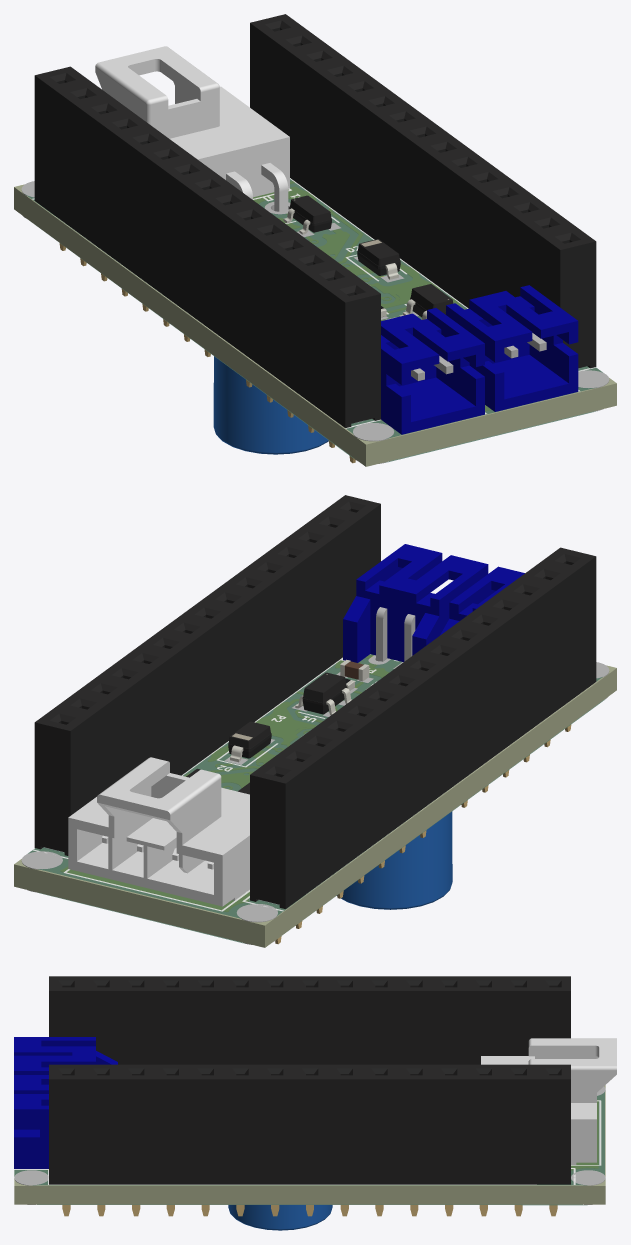
File: drumlight.glb
3 renders of one model, top to bottom at view 1: azimuth 30°, elevation 25°; view 2: azimuth 150°, elevation 25°; view 3: azimuth 270°, elevation 25°, orthographic. The views are drawn at different scales.
Parts seen in each view (by area): view 1: =>[0:1:1:3] (×2), =>[0:1:1:22] (×2), =>[0:1:1:38], =>0:1:1:19, =>[0:1:1:26], =>[0:1:1:36], =>[0:1:1:31], =>[0:1:1:32], =>[0:1:1:13], =>[0:1:1:24], =>[0:1:1:5], =>[0:1:1:34] (+1 smaller); view 2: =>[0:1:1:3] (×2), =>0:1:1:19, =>[0:1:1:38], =>[0:1:1:22] (×2), =>[0:1:1:36], =>[0:1:1:26], =>[0:1:1:31], =>[0:1:1:32], =>[0:1:1:5], =>[0:1:1:13], =>[0:1:1:34]; view 3: =>[0:1:1:3] (×2), =>[0:1:1:38], =>[0:1:1:22] (×2), =>0:1:1:19, =>[0:1:1:26], =>[0:1:1:36], =>[0:1:1:32], =>[0:1:1:34], =>[0:1:1:37].
Part boxes in pixels (bbox=[...]): =>[0:1:1:3] (×2): bbox=[34, 14, 596, 463]; =>[0:1:1:22] (×2): bbox=[381, 285, 578, 434]; =>[0:1:1:38]: bbox=[14, 180, 616, 466]; =>0:1:1:19: bbox=[95, 46, 289, 211]; =>[0:1:1:26]: bbox=[213, 356, 328, 454]; =>[0:1:1:36]: bbox=[25, 179, 602, 438]; =>[0:1:1:31]: bbox=[254, 182, 490, 410]; =>[0:1:1:32]: bbox=[21, 181, 609, 463]; =>[0:1:1:13]: bbox=[357, 239, 400, 279]; =>[0:1:1:24]: bbox=[283, 195, 331, 234]; =>[0:1:1:5]: bbox=[403, 284, 453, 319]; =>[0:1:1:34]: bbox=[32, 178, 596, 428]; =>[0:1:1:3] (×2): bbox=[34, 495, 596, 944]; =>0:1:1:19: bbox=[68, 757, 249, 906]; =>[0:1:1:38]: bbox=[14, 655, 616, 947]; =>[0:1:1:22] (×2): bbox=[343, 544, 524, 662]; =>[0:1:1:36]: bbox=[28, 654, 602, 918]; =>[0:1:1:26]: bbox=[337, 811, 452, 909]; =>[0:1:1:31]: bbox=[61, 655, 388, 911]; =>[0:1:1:32]: bbox=[21, 655, 609, 944]; =>[0:1:1:5]: bbox=[295, 672, 351, 715]; =>[0:1:1:13]: bbox=[228, 721, 271, 762]; =>[0:1:1:34]: bbox=[32, 654, 595, 911]; =>[0:1:1:3] (×2): bbox=[49, 976, 570, 1216]; =>[0:1:1:38]: bbox=[14, 1085, 605, 1204]; =>[0:1:1:22] (×2): bbox=[14, 1037, 117, 1168]; =>0:1:1:19: bbox=[481, 1038, 616, 1164]; =>[0:1:1:26]: bbox=[228, 1205, 332, 1230]; =>[0:1:1:36]: bbox=[14, 1092, 604, 1185]; =>[0:1:1:32]: bbox=[14, 1086, 605, 1204]; =>[0:1:1:34]: bbox=[14, 1100, 601, 1184]; =>[0:1:1:37]: bbox=[37, 1204, 587, 1205].
Size of the model in its own units: 0.0178 by 0.0165 by 0.044.
